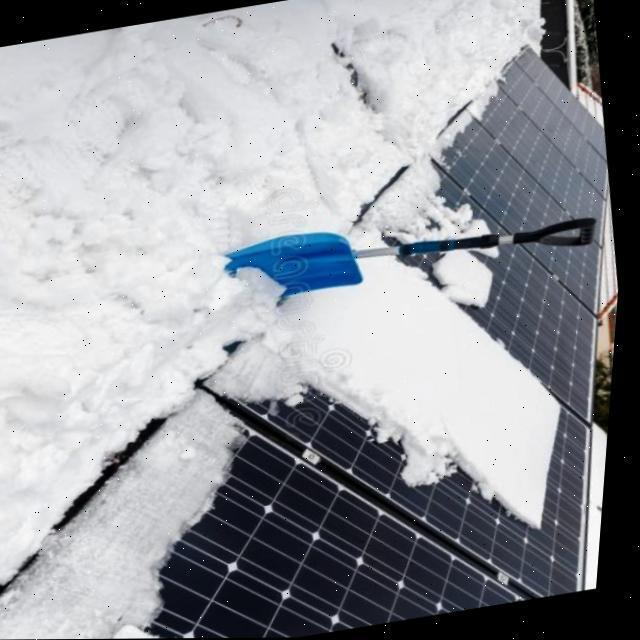Anomaly Solar Panel: (209, 222, 599, 598), (6, 387, 547, 640), (360, 149, 604, 424), (429, 109, 606, 315), (468, 81, 609, 247), (597, 423, 614, 512), (593, 505, 610, 592)
Snow: (211, 253, 569, 526), (6, 393, 259, 640), (345, 148, 501, 253), (430, 74, 513, 167), (442, 251, 502, 307), (595, 424, 614, 591)
